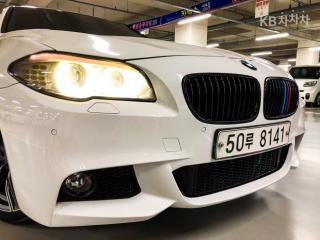0: (236, 132, 245, 153)
1: (267, 128, 273, 147), (280, 126, 285, 143)
4: (273, 126, 281, 145)
5: (225, 133, 236, 153)
8: (259, 129, 267, 148)
plate: (207, 120, 294, 161)
루: (245, 131, 256, 150)
